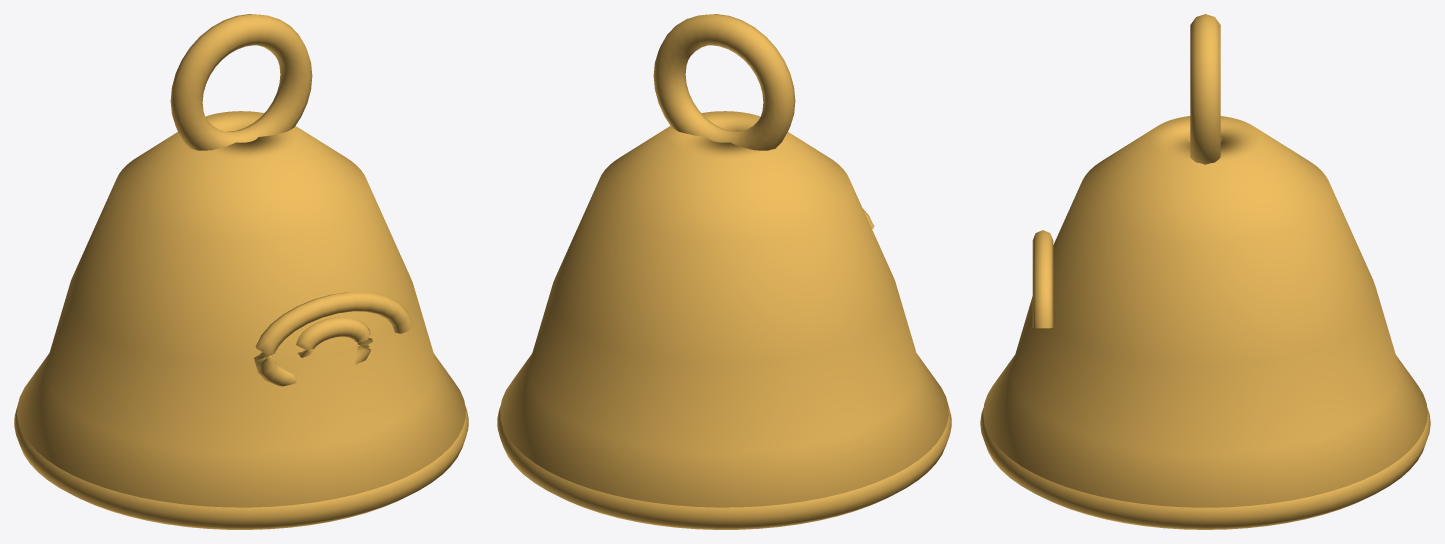
File: prop-bell.glb
3 views of the same model, side by side, from view 1: azimuth 30°, elevation 25°; view 2: azimuth 150°, elevation 25°; view 3: azimuth 270°, elevation 25° (orthographic).
Visible parts, largest first — view 1: prop-bell; view 2: prop-bell; view 3: prop-bell.
Part boxes in pixels (left/top/right/bottom): prop-bell: left=14, top=14, right=468, bottom=529; prop-bell: left=497, top=14, right=951, bottom=529; prop-bell: left=980, top=14, right=1430, bottom=529.
Size of the model in its own units: 0.79 by 0.8113 by 0.79.
